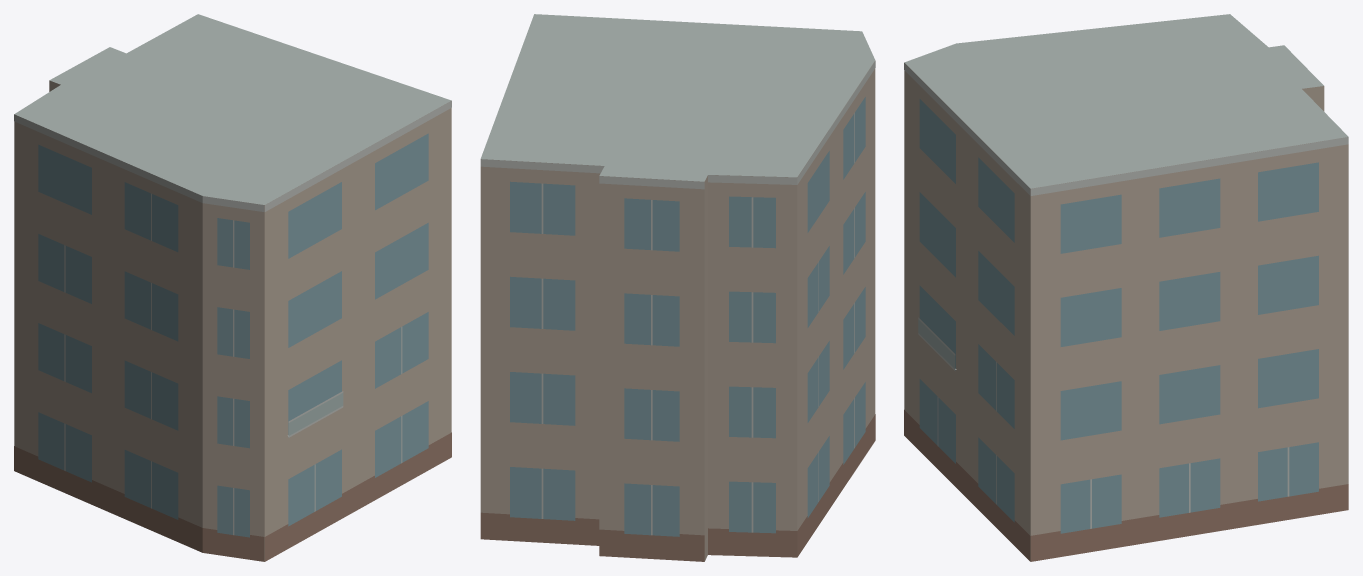
The model's file is survey-upis-32743150.glb.
3 renders of one model, left to right at view 1: azimuth 30°, elevation 25°; view 2: azimuth 150°, elevation 25°; view 3: azimuth 270°, elevation 25°, orthographic. The views are drawn at different scales.
Parts seen in each view (by area): view 1: survey-upis-32743150.tmp; view 2: survey-upis-32743150.tmp; view 3: survey-upis-32743150.tmp.
Boxes of the visible parts, x1,y1,x2,y2 form: survey-upis-32743150.tmp: (14, 14, 451, 561); survey-upis-32743150.tmp: (480, 14, 875, 561); survey-upis-32743150.tmp: (904, 14, 1348, 561).
Size of the model in its own units: 12.26 by 12.2 by 13.18.
